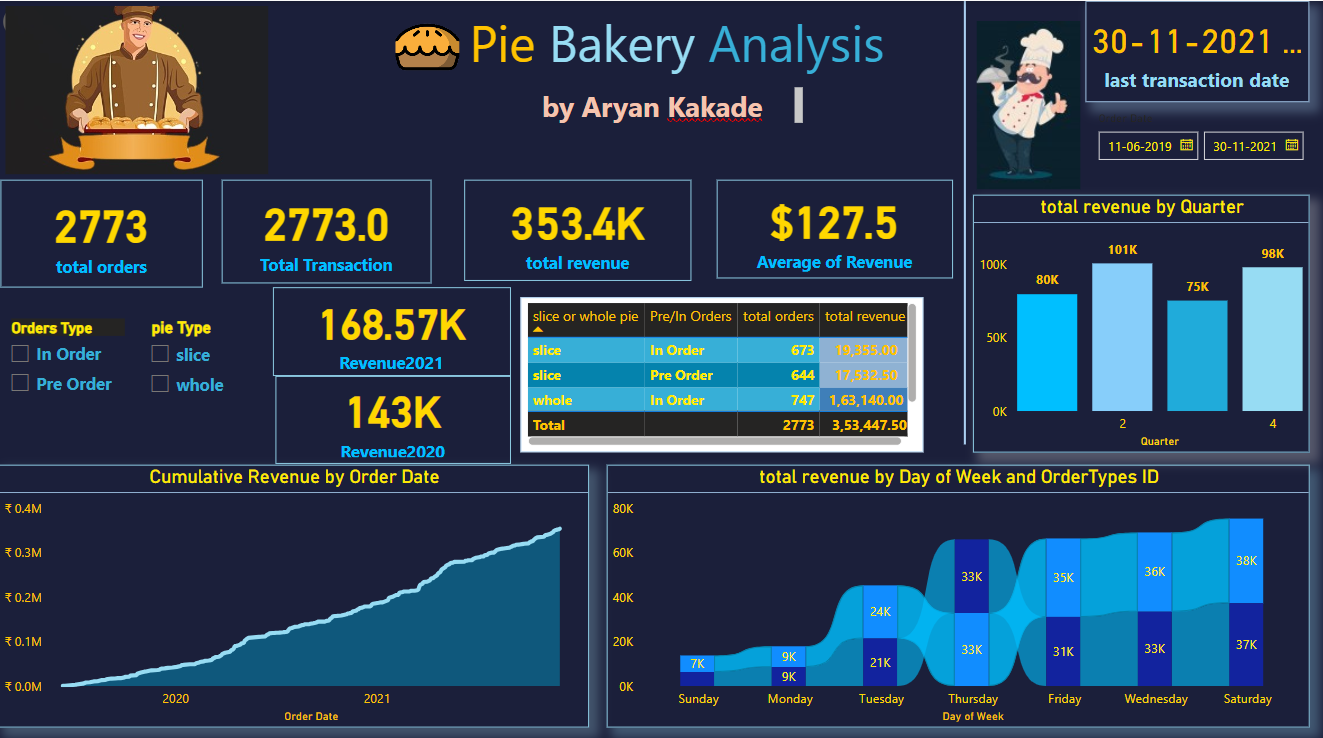

Layout of this report page (visuals, bound fields, positions):
{"tool":"powerbi","page":{"name":"Dashboard","canvas":[1280,720],"ordinal":0},"visuals":[{"type":"actionButton","box":[0,0,100,40],"z":0},{"type":"stackedAreaChart","fields":{"Category":["fact-table.Order Date"],"Y":["fact-table.Cumulative Revenue"]},"box":[0,447.6,570.6,253.4],"z":1000},{"type":"clusteredColumnChart","fields":{"Category":["Calender.Quarter"],"Y":["fact-table.total revenue"]},"box":[941,187,324.5,248.5],"z":2000},{"type":"ribbonChart","fields":{"Category":["fact-table.Day of Week"],"Y":["fact-table.total revenue"],"Series":["Dims - Ordertypes_ID.OrderTypes ID"]},"box":[587.5,447.6,678,253.4],"z":3000},{"type":"tableEx","fields":{"Values":["Dims - pietypes_ID.slice or whole pie","Dims - Ordertypes_ID.Pre/In Orders","fact-table.total orders","fact-table.total revenue"]},"box":[504.3,285.9,388.5,149.6],"z":4000},{"type":"card","fields":{"Values":["fact-table.TOTAL_transaction"]},"box":[216,172.5,202.7,100.1],"z":5000},{"type":"card","fields":{"Values":["fact-table.total orders"]},"box":[2.4,172.5,195.4,103.8],"z":6000},{"type":"card","fields":{"Values":["fact-table.total revenue"]},"box":[450,172.5,219.6,97.7],"z":7000},{"type":"slicer","fields":{"Values":["Dims - Ordertypes_ID.Pre/In Orders"]},"box":[0,301.6,135.1,95.3],"z":8000},{"type":"card","fields":{"Values":["fact-table.Revenue2020"]},"box":[267.8,361.9,226.8,84.5],"z":9000},{"type":"card","fields":{"Values":["fact-table.Revenue2021"]},"box":[265.4,276.3,229.2,85.7],"z":10000},{"type":"card","fields":{"Values":["Avg(fact-table.Revenue)"]},"box":[693.7,172.5,228,95.3],"z":11000},{"type":"card","fields":{"Values":["fact-table.last transaction date"]},"box":[1049.6,0,216,97.7],"z":12000},{"type":"textbox","box":[450,2.4,431.9,130.3],"z":14000},{"type":"image","box":[939.8,14.5,109.8,172.5],"z":16000},{"type":"slicer","fields":{"Values":["Dims - pietypes_ID.slice or whole pie"]},"box":[135.1,301.6,130.3,95.3],"z":19000},{"type":"shape","box":[922.9,0,20.5,428.3],"z":20000},{"type":"textbox","box":[520,78.4,261.8,44.6],"z":24001},{"type":"shape","box":[504.3,285.9,388.5,142.4],"z":24004},{"type":"slicer","fields":{"Values":["fact-table.Order Date"]},"box":[1049.6,101.3,216,59.1],"z":24005},{"type":"image","box":[2.4,0,263,172.5],"z":24006},{"type":"image","box":[378.8,2.4,71.2,84.5],"z":24007}]}

Visuals, with their boxes in screenshot pixels (x1, y1, x2, y2), scaled from the page's 1280x720 canvas onto the 1323x738 screenshot:
actionButton: <box>0,0,103,41</box>
stackedAreaChart - fact-table.Order Date x fact-table.Cumulative Revenue: <box>0,459,590,719</box>
clusteredColumnChart - Calender.Quarter x fact-table.total revenue: <box>973,192,1308,446</box>
ribbonChart - fact-table.Day of Week x fact-table.total revenue: <box>607,459,1308,719</box>
tableEx - Dims - pietypes_ID.slice or whole pie x Dims - Ordertypes_ID.Pre/In Orders: <box>521,293,923,446</box>
card - fact-table.TOTAL_transaction: <box>223,177,433,279</box>
card - fact-table.total orders: <box>2,177,204,283</box>
card - fact-table.total revenue: <box>465,177,692,277</box>
slicer - Dims - Ordertypes_ID.Pre/In Orders: <box>0,309,140,407</box>
card - fact-table.Revenue2020: <box>277,371,511,458</box>
card - fact-table.Revenue2021: <box>274,283,511,371</box>
card - Avg(fact-table.Revenue): <box>717,177,953,274</box>
card - fact-table.last transaction date: <box>1085,0,1308,100</box>
textbox: <box>465,2,912,136</box>
image: <box>971,15,1085,192</box>
slicer - Dims - pietypes_ID.slice or whole pie: <box>140,309,274,407</box>
shape: <box>954,0,975,439</box>
textbox: <box>537,80,808,126</box>
shape: <box>521,293,923,439</box>
slicer - fact-table.Order Date: <box>1085,104,1308,164</box>
image: <box>2,0,274,177</box>
image: <box>392,2,465,89</box>
